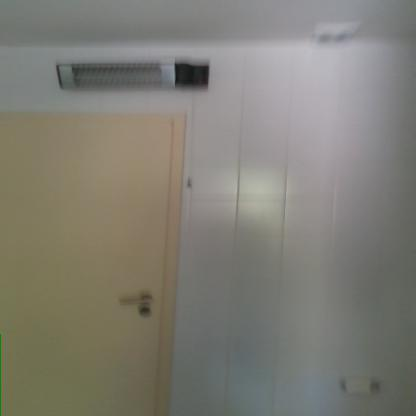door: (0, 118, 163, 414)
lever: (116, 297, 156, 308)
